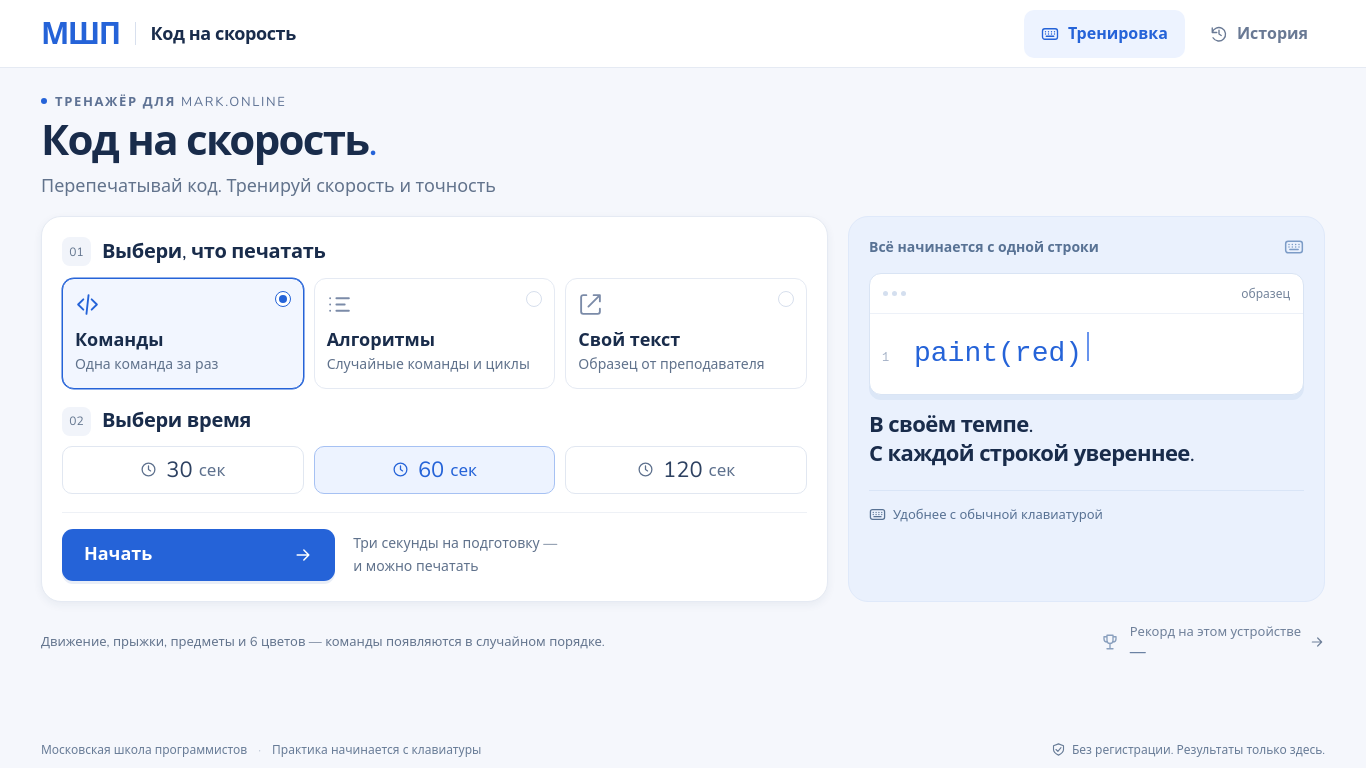
подготовка и хранение › не показывает подпись Демо и описывает случайные алгоритмы
Click the radio button labelled "Алгоритмы Случайные команды и циклы": (434, 333) [314, 278, 555, 389]
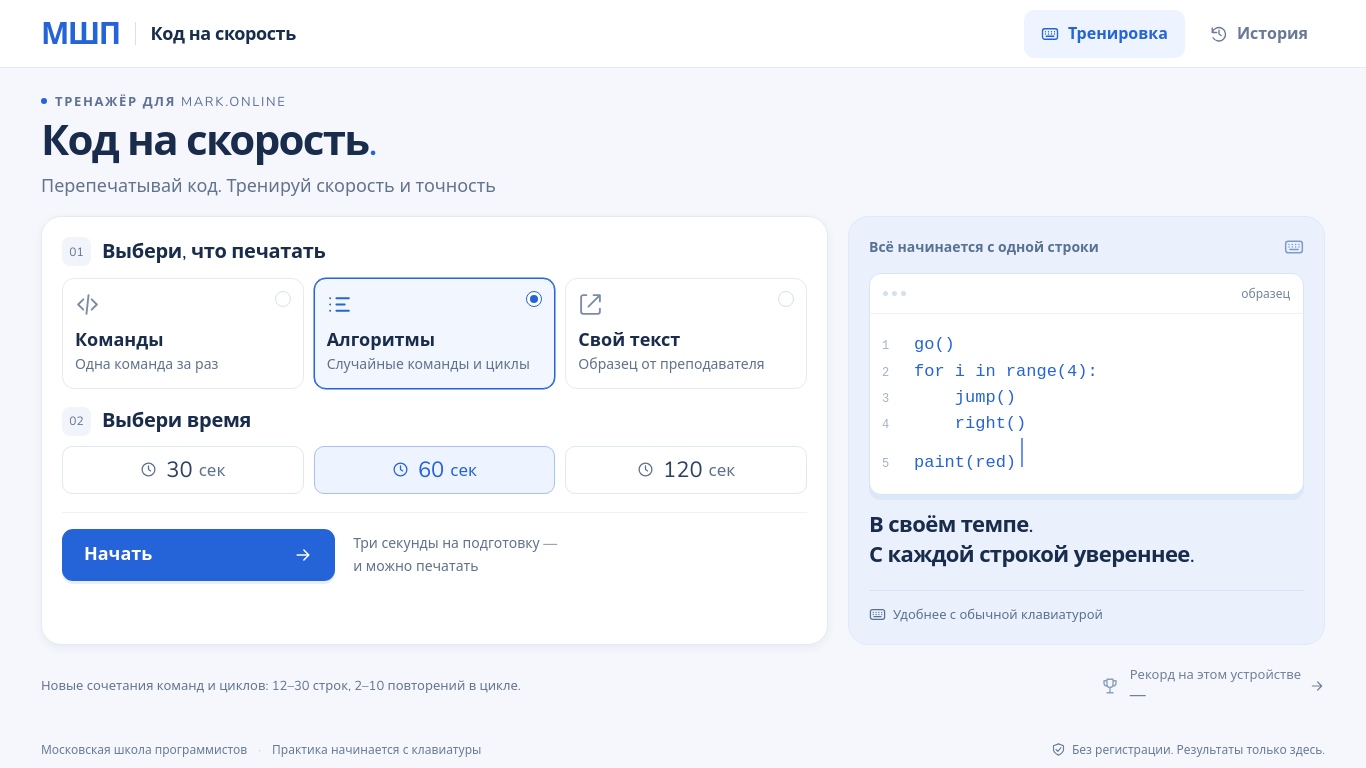
Expected: the text "Новые сочетания команд и циклов" is shown, [41, 677, 521, 695]
